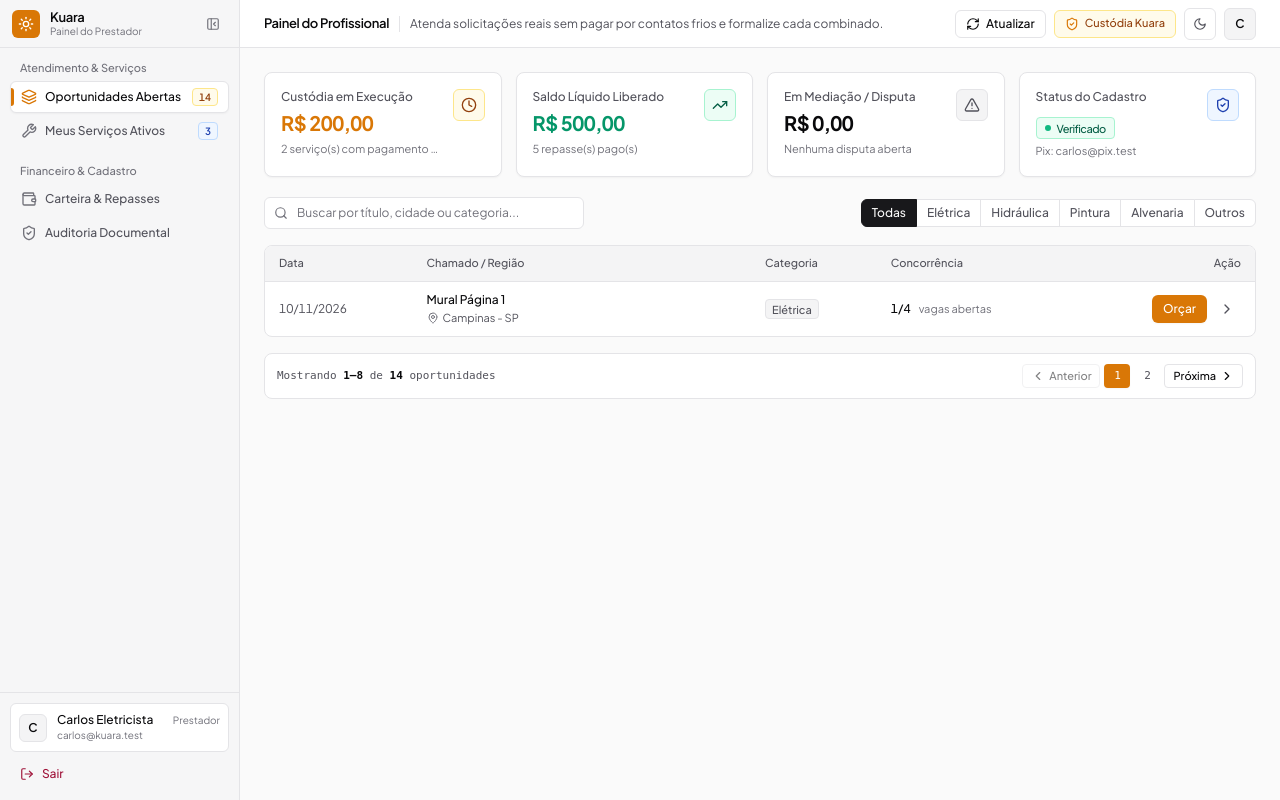
it: Pagination UI & Lazy Server-Side Dashboard Fetching › ProviderDashboard scoped lazy pagination › only fetches active tab endpoint with pagination params and reads badge totals from wallet
Expected: the link "Mural Página 1" is shown, [426, 292, 505, 308]
Expected: the navigation bar named "Paginação" shows "Mostrando 1–8 de 14 oportunidades", [264, 353, 1256, 399]
Click the button with aria-label "Próxima página". click: click(1204, 376)
box: [1164, 364, 1243, 388]
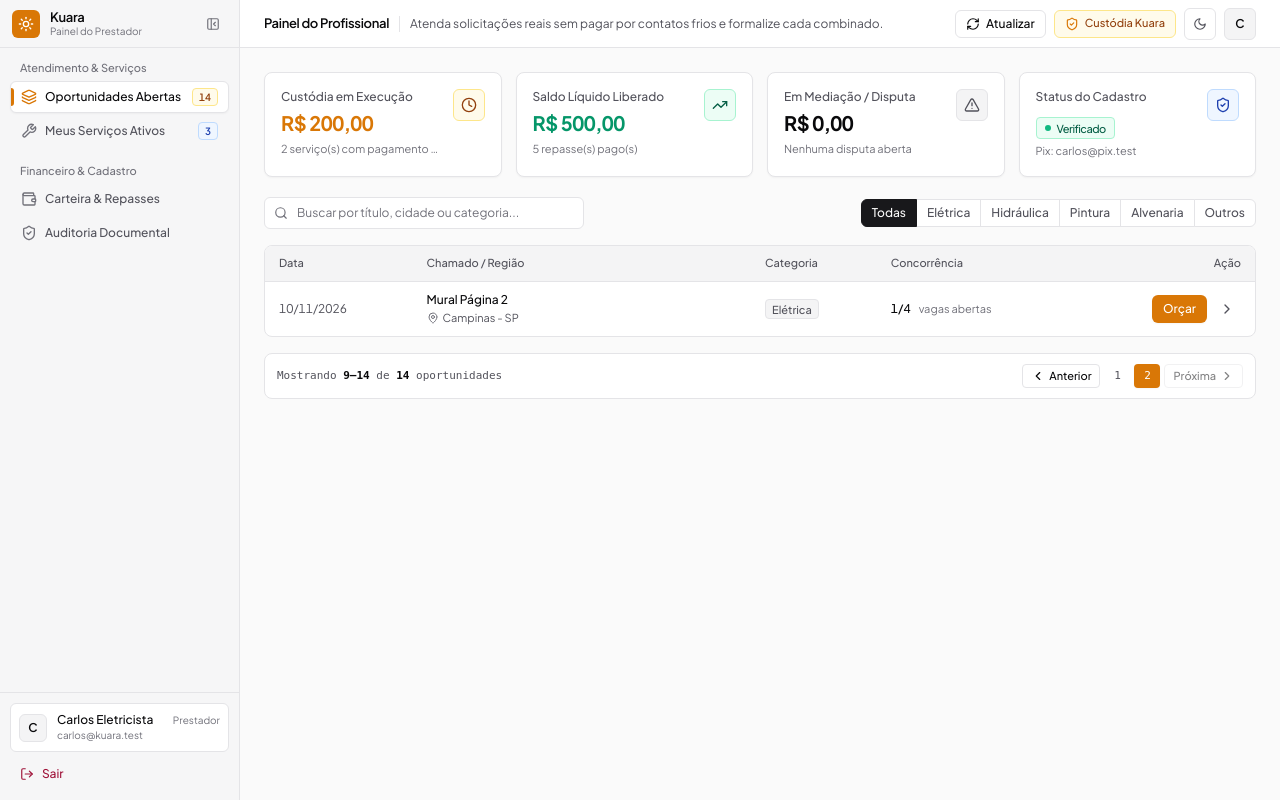
Expected: the link "Mural Página 2" is shown, [426, 292, 508, 308]
Click the button "Meus Serviços Ativos 3". click: click(120, 130)
box: [10, 114, 229, 146]
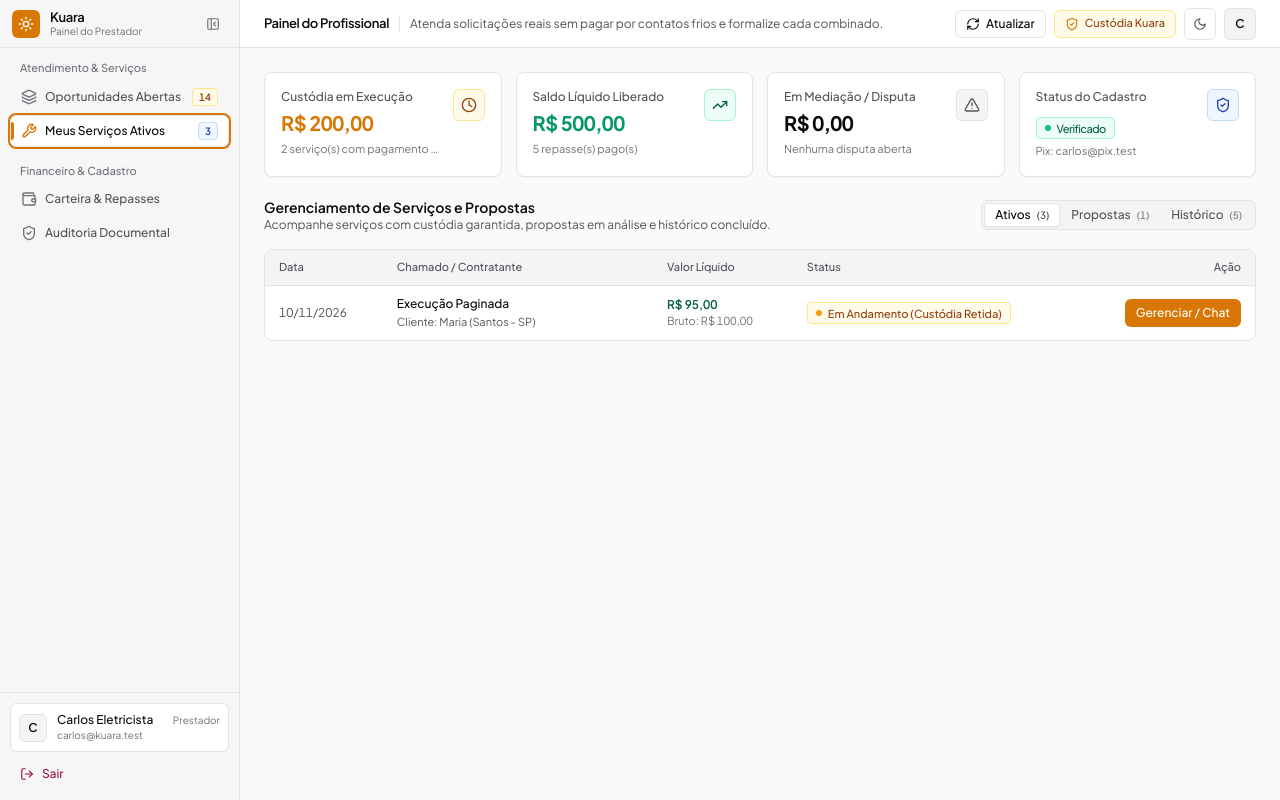
Expected: the link "Execução Paginada" is shown, [397, 296, 509, 311]
